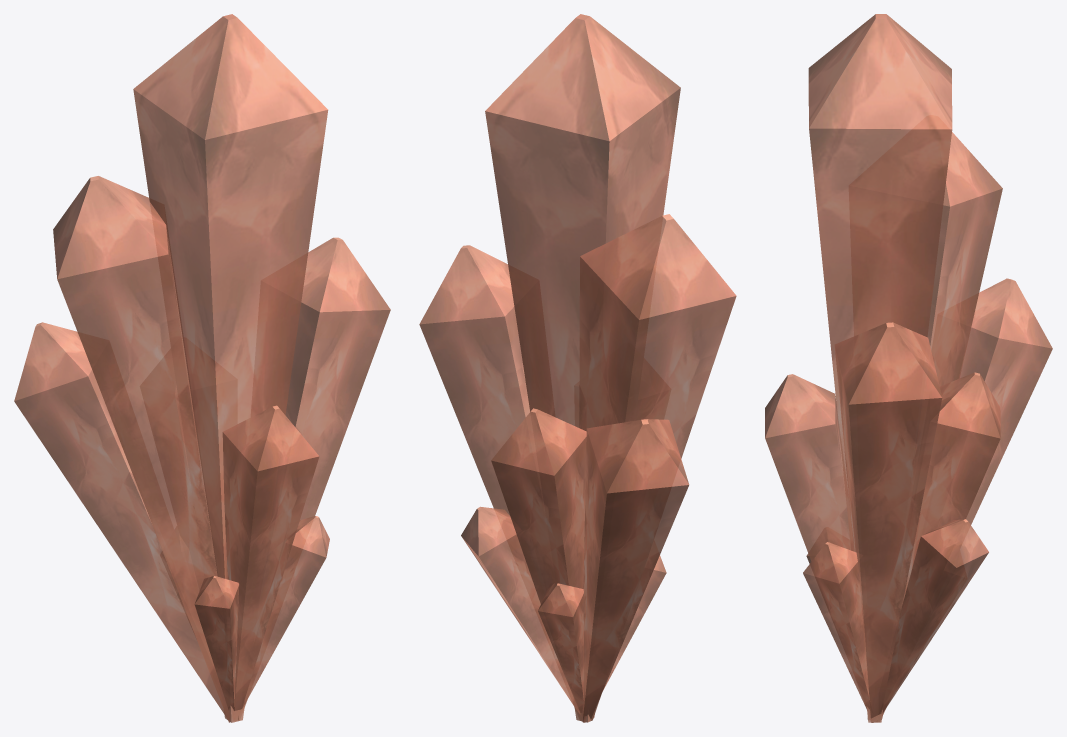
Rendered from salt-crystal-plant-2.glb.
3 views of the same model, side by side, from view 1: azimuth 30°, elevation 25°; view 2: azimuth 150°, elevation 25°; view 3: azimuth 270°, elevation 25° (orthographic).
Visible parts, largest first — view 1: tall-plant-1; view 2: tall-plant-1; view 3: tall-plant-1.
Part boxes in pixels (x1,y1,x2,y2): tall-plant-1: (14,14,390,722); tall-plant-1: (419,14,736,722); tall-plant-1: (765,14,1052,722).
Size of what is drawn, in the model's own units: 1.8 by 3.93 by 1.45.
1 material, 1 textured.
